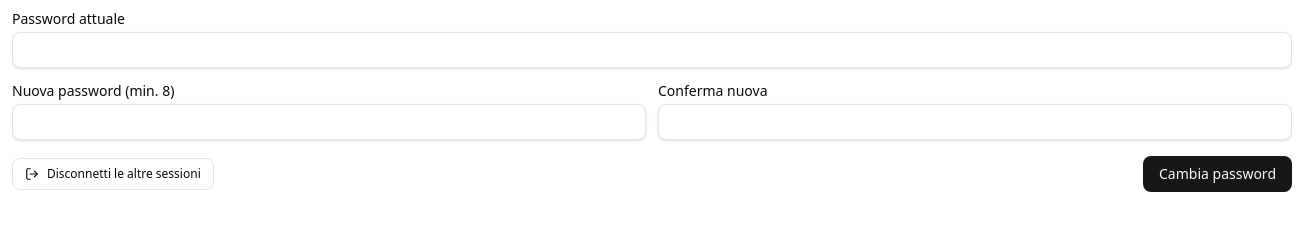
ChangePasswordForm › si possono disconnettere le altre sessioni
Step 1. Click the button "Disconnetti le altre sessioni" → (113, 174), box x1=12 y1=158 x2=214 y2=190
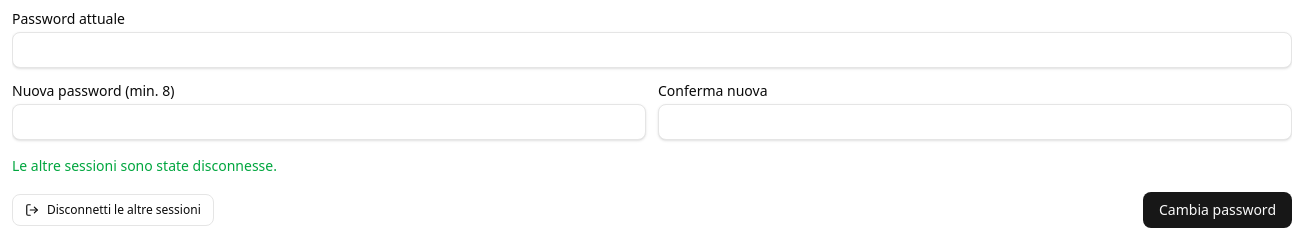
Expected: the text "Le altre sessioni sono state disconnesse." is shown, x1=12 y1=156 x2=277 y2=175
